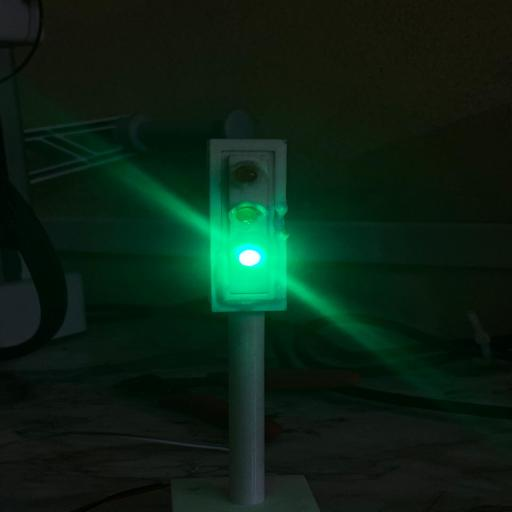Green Light: (238, 249, 262, 267)
